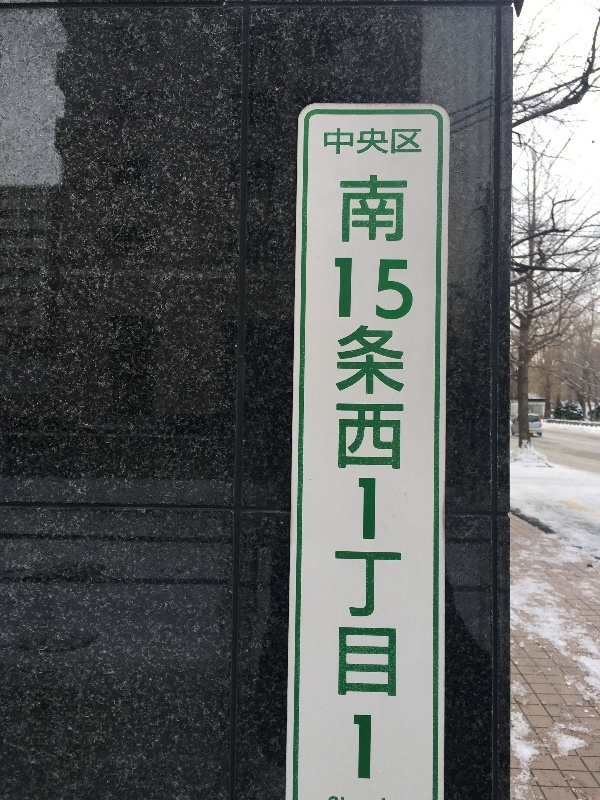text: (337, 174, 352, 789), (353, 174, 368, 789), (369, 174, 384, 789), (385, 174, 400, 789), (401, 174, 415, 789), (337, 128, 352, 155), (353, 128, 368, 155), (369, 128, 384, 155), (385, 128, 400, 155), (401, 128, 416, 155), (324, 128, 336, 155), (417, 128, 422, 155)
